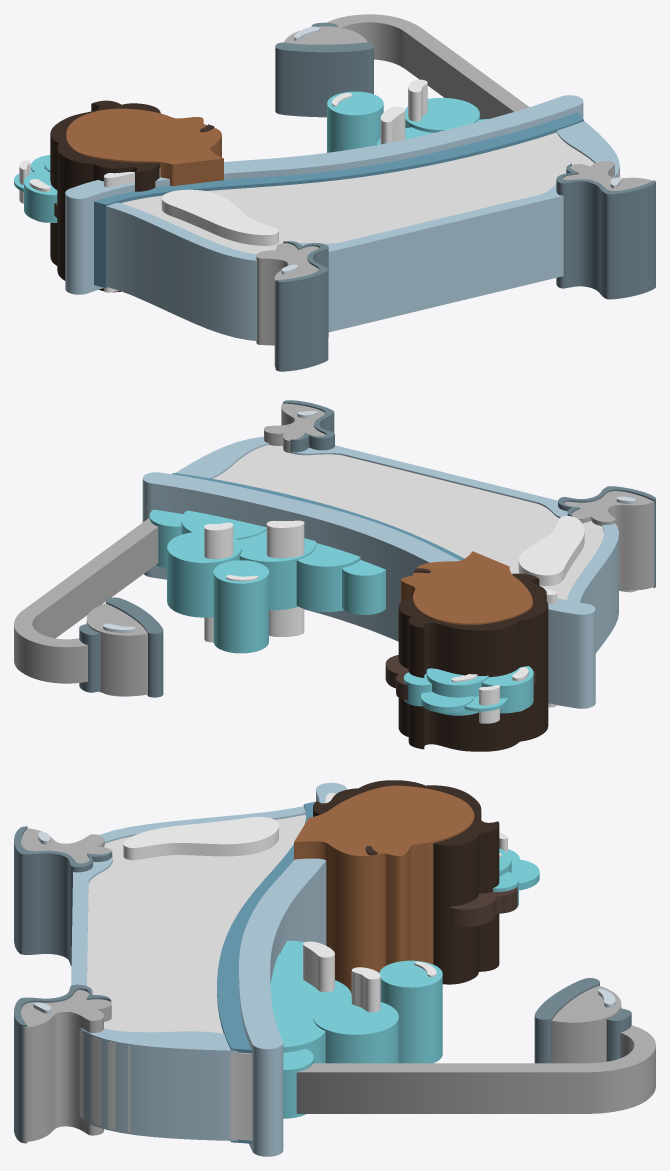
The model's file is emoji_u1f6c0_1f3fe.glb.
3 renders of one model, top to bottom at view 1: azimuth 30°, elevation 25°; view 2: azimuth 150°, elevation 25°; view 3: azimuth 270°, elevation 25°, orthographic. The views are drawn at different scales.
Parts seen in each view (by area): view 1: emoji_u1f6c0_1f3fe; view 2: emoji_u1f6c0_1f3fe; view 3: emoji_u1f6c0_1f3fe.
Boxes of the visible parts, x1,y1,x2,y2 form: emoji_u1f6c0_1f3fe: (14, 14, 655, 371); emoji_u1f6c0_1f3fe: (14, 400, 655, 751); emoji_u1f6c0_1f3fe: (14, 780, 655, 1156).
Size of the model in its own units: 0.0329 by 0.0084 by 0.0335.
